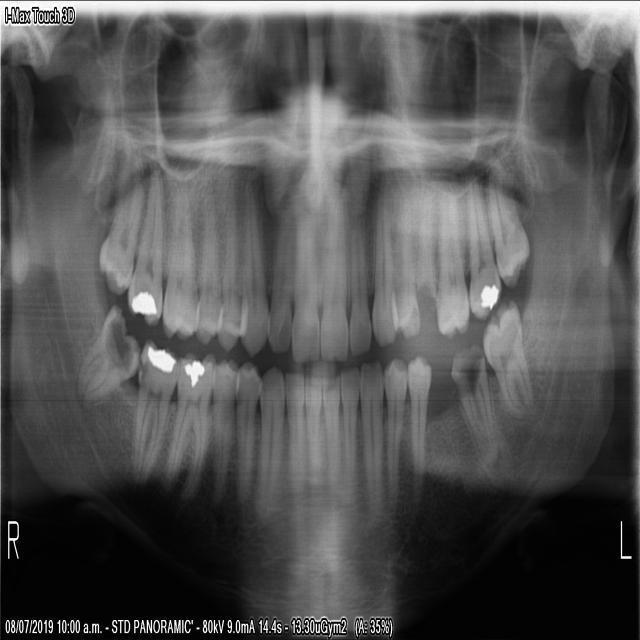LCD: (339, 360, 360, 482)
LCU: (369, 189, 398, 348)
LID: (320, 367, 340, 486), (302, 371, 323, 483)
LIU: (317, 195, 348, 365), (346, 208, 372, 361)
LMD: (450, 337, 504, 485), (480, 294, 535, 422)
LMU: (457, 188, 505, 318), (432, 191, 470, 340), (482, 193, 533, 290)
LPMD: (404, 346, 431, 509), (359, 358, 384, 518), (380, 348, 405, 507)
LPMU: (385, 190, 421, 342), (412, 202, 435, 296)
RCD: (231, 359, 261, 503)
RCU: (238, 178, 270, 354)
RID: (251, 360, 284, 526), (282, 367, 305, 486)
RIU: (263, 205, 295, 355), (290, 203, 319, 366)
RMD: (121, 330, 178, 489), (71, 292, 139, 419)
RMU: (123, 170, 163, 333), (159, 181, 198, 348), (94, 188, 147, 295)
RPMD: (161, 354, 217, 515), (209, 353, 235, 486)
RPMU: (190, 174, 221, 343), (215, 191, 244, 352)
